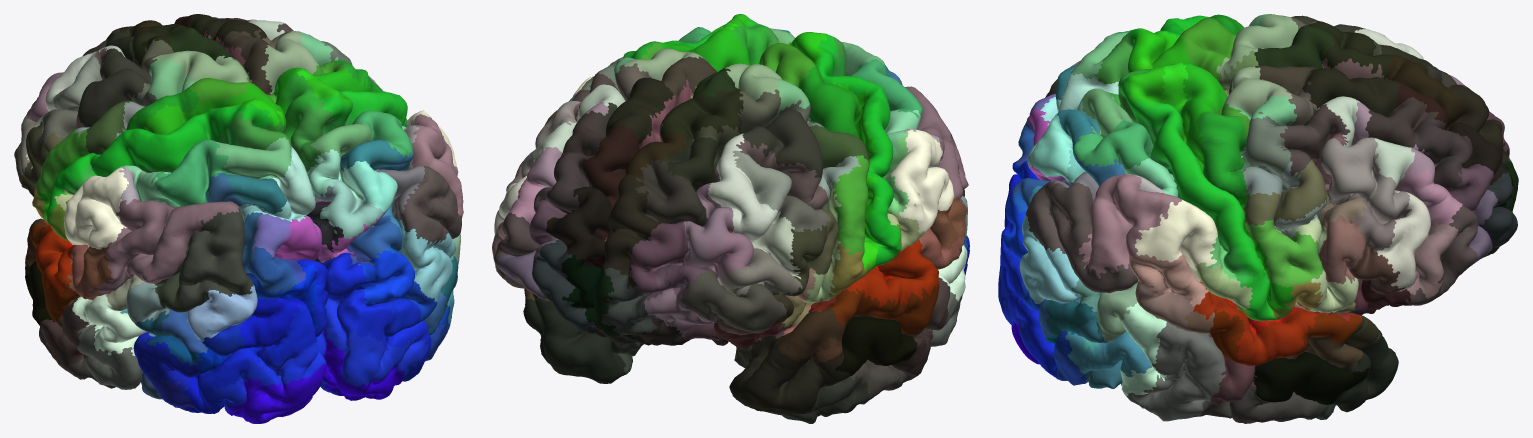
Rendered from cortex-hcp-mmp.glb.
3 views of the same model, side by side, from view 1: azimuth 30°, elevation 25°; view 2: azimuth 150°, elevation 25°; view 3: azimuth 270°, elevation 25° (orthographic). The views are drawn at different scales.
Visible parts, largest first — view 1: hcp-mmp:left:149, hcp-mmp:left:51, hcp-mmp:left:151, hcp-mmp:right:5, hcp-mmp:left:5, hcp-mmp:right:4, hcp-mmp:left:148, hcp-mmp:right:151, hcp-mmp:left:1, hcp-mmp:left:67, hcp-mmp:left:47, hcp-mmp:left:4 (+80 smaller); view 2: hcp-mmp:left:131, hcp-mmp:left:51, hcp-mmp:right:131, hcp-mmp:left:148, hcp-mmp:left:77, hcp-mmp:left:84, hcp-mmp:left:132, hcp-mmp:left:72, hcp-mmp:left:175, hcp-mmp:left:87, hcp-mmp:left:67, hcp-mmp:right:72 (+70 smaller); view 3: hcp-mmp:right:51, hcp-mmp:right:133, hcp-mmp:right:149, hcp-mmp:right:151, hcp-mmp:right:83, hcp-mmp:right:132, hcp-mmp:right:148, hcp-mmp:right:175, hcp-mmp:right:54, hcp-mmp:right:8, hcp-mmp:right:56, hcp-mmp:right:143 (+74 smaller).
Part boxes in pixels (x1,y1,x2,y2): hcp-mmp:left:149: (90, 199, 240, 293); hcp-mmp:left:51: (45, 104, 274, 224); hcp-mmp:left:151: (161, 208, 254, 311); hcp-mmp:right:5: (324, 253, 431, 376); hcp-mmp:left:5: (198, 259, 328, 413); hcp-mmp:right:4: (320, 253, 428, 395); hcp-mmp:left:148: (63, 167, 128, 249); hcp-mmp:right:151: (399, 166, 463, 244); hcp-mmp:left:1: (224, 348, 326, 423); hcp-mmp:left:67: (77, 48, 150, 127); hcp-mmp:left:47: (151, 139, 230, 206); hcp-mmp:left:4: (212, 330, 326, 412); hcp-mmp:left:131: (729, 333, 850, 414); hcp-mmp:left:51: (815, 33, 901, 267); hcp-mmp:right:131: (523, 298, 625, 383); hcp-mmp:left:148: (890, 129, 954, 238); hcp-mmp:left:77: (681, 268, 786, 332); hcp-mmp:left:84: (707, 133, 777, 241); hcp-mmp:left:132: (835, 316, 917, 376); hcp-mmp:left:72: (602, 178, 661, 289); hcp-mmp:left:175: (846, 239, 939, 307); hcp-mmp:left:87: (635, 159, 707, 226); hcp-mmp:left:67: (742, 110, 823, 179); hcp-mmp:right:72: (546, 186, 610, 260); hcp-mmp:right:51: (1120, 76, 1274, 320); hcp-mmp:right:133: (1126, 322, 1225, 421); hcp-mmp:right:149: (1078, 174, 1181, 278); hcp-mmp:right:151: (1025, 180, 1137, 293); hcp-mmp:right:83: (1320, 137, 1409, 221); hcp-mmp:right:132: (1253, 351, 1369, 404); hcp-mmp:right:148: (1134, 199, 1217, 281); hcp-mmp:right:175: (1193, 288, 1322, 365); hcp-mmp:right:54: (1196, 112, 1247, 200); hcp-mmp:right:8: (1181, 62, 1295, 306); hcp-mmp:right:56: (1245, 219, 1323, 287); hcp-mmp:right:143: (1019, 206, 1080, 304).
Size of the model in its own units: 0.1284 by 0.103 by 0.1464.
